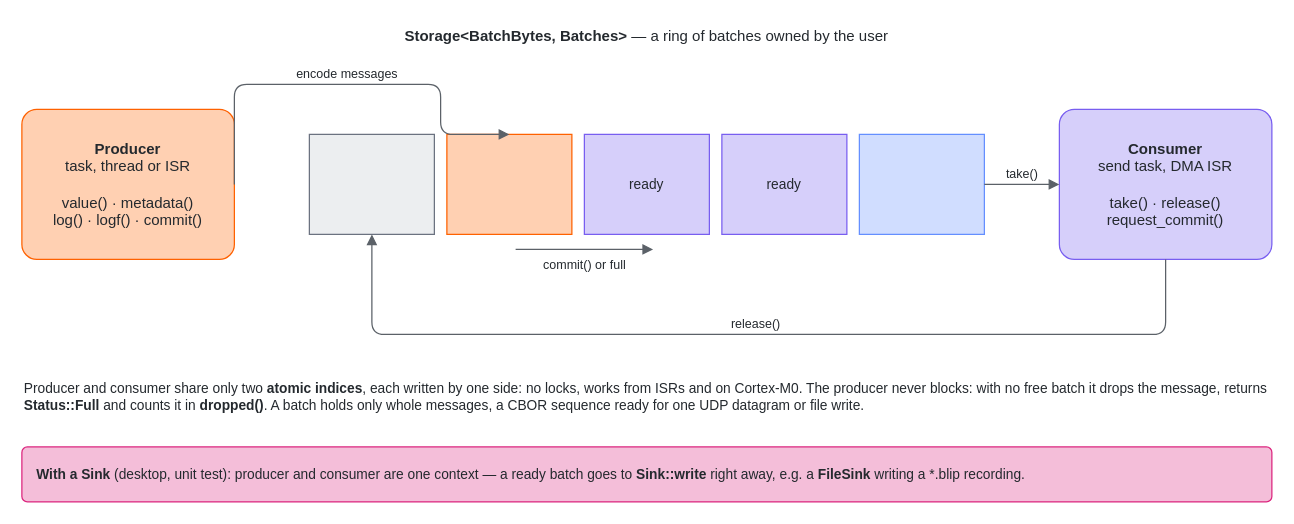
This 1294x524 diagram has some shape labels left out. Each missing label, with the centre of its shape:
"free" goes at [371,183].
"open being encoded" goes at [509,183].
"taken being sent" goes at [921,183].
